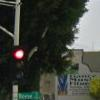Traffic light: (6, 40, 30, 91)
